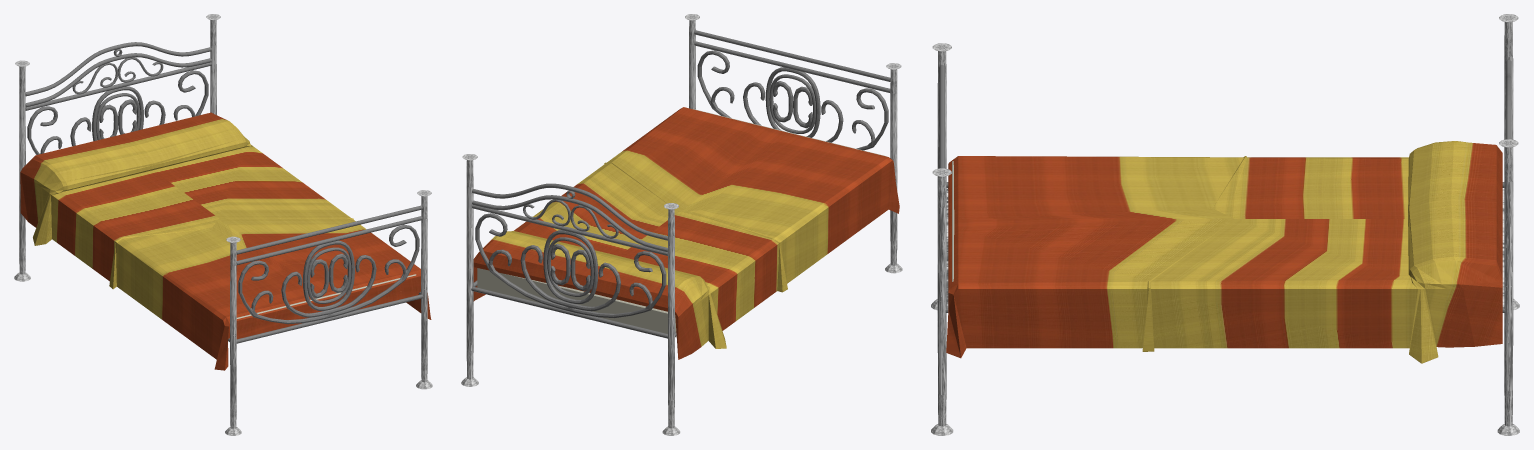
Rendered from iron_bed.obj.
3 views of the same model, side by side, from view 1: azimuth 30°, elevation 25°; view 2: azimuth 150°, elevation 25°; view 3: azimuth 270°, elevation 25° (orthographic). The views are drawn at different scales.
Visible parts, largest first — view 1: Colcha_Plane.002, bed_Cylinder; view 2: Colcha_Plane.002, bed_Cylinder, mattress_Cube.002; view 3: Colcha_Plane.002, bed_Cylinder.
Part boxes in pixels (x1,y1,x2,y2): Colcha_Plane.002: (20, 112, 431, 370); bed_Cylinder: (14, 14, 432, 435); Colcha_Plane.002: (473, 107, 899, 359); bed_Cylinder: (461, 14, 902, 435); mattress_Cube.002: (477, 109, 886, 333); Colcha_Plane.002: (946, 141, 1502, 363); bed_Cylinder: (931, 14, 1519, 435).
Size of the model in its own units: 1.32 by 1.16 by 2.15.
